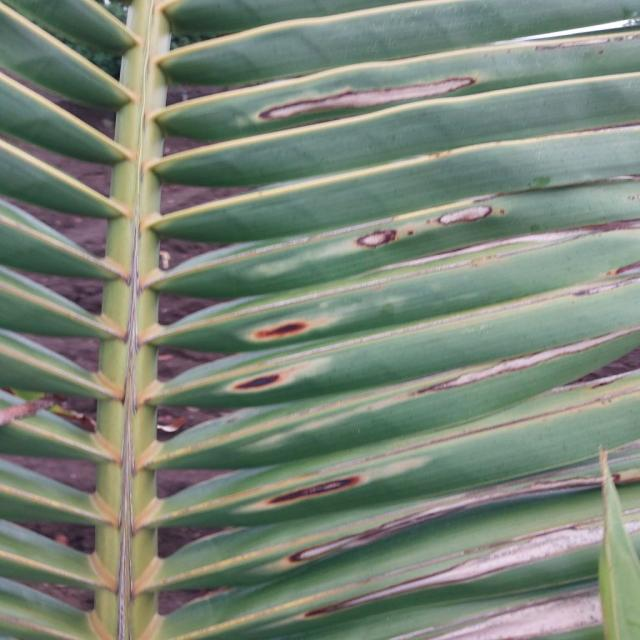gray leaf spot: (344, 513, 620, 636), (228, 77, 502, 128), (350, 197, 502, 257), (221, 295, 346, 358), (211, 364, 338, 418), (261, 476, 378, 521)
